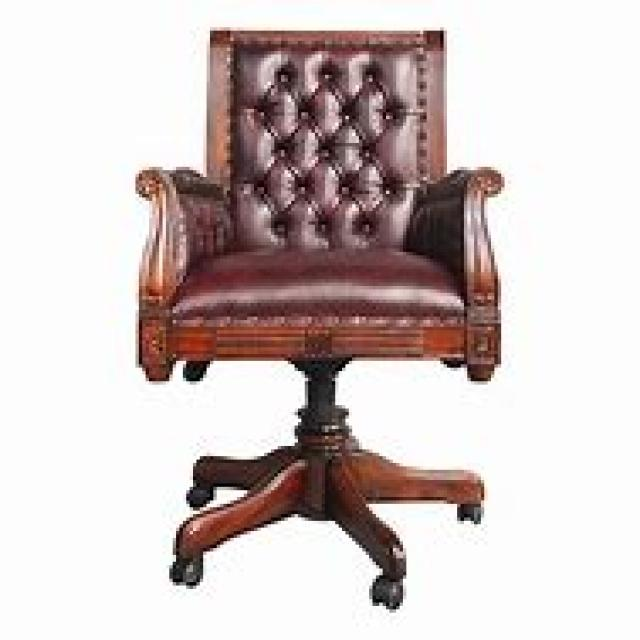chair: (132, 24, 505, 609)
